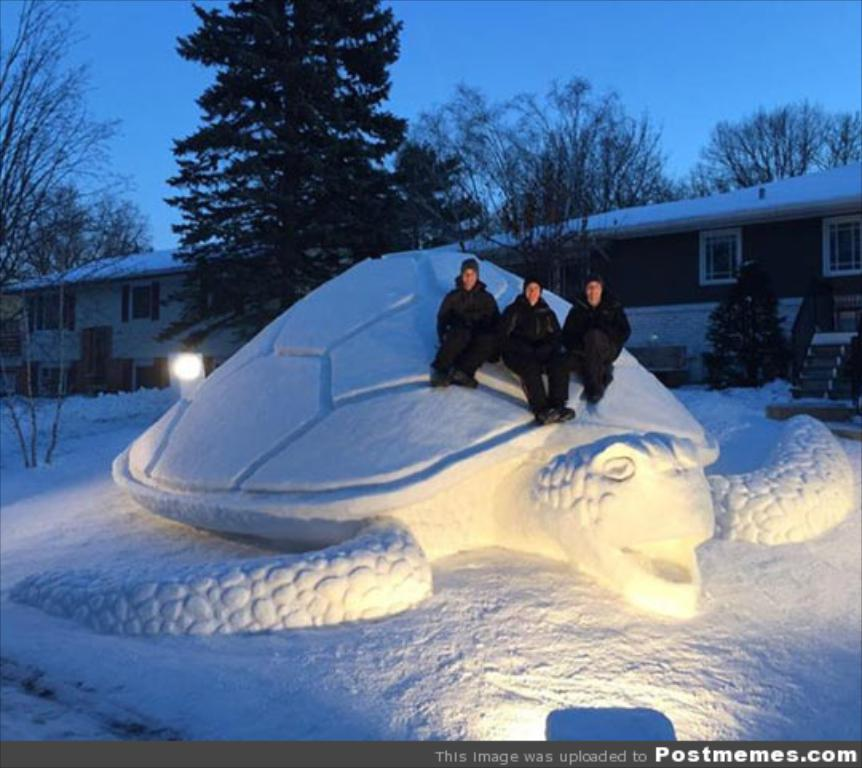Person: (500, 278, 578, 426), (431, 256, 507, 391), (562, 275, 632, 405)
